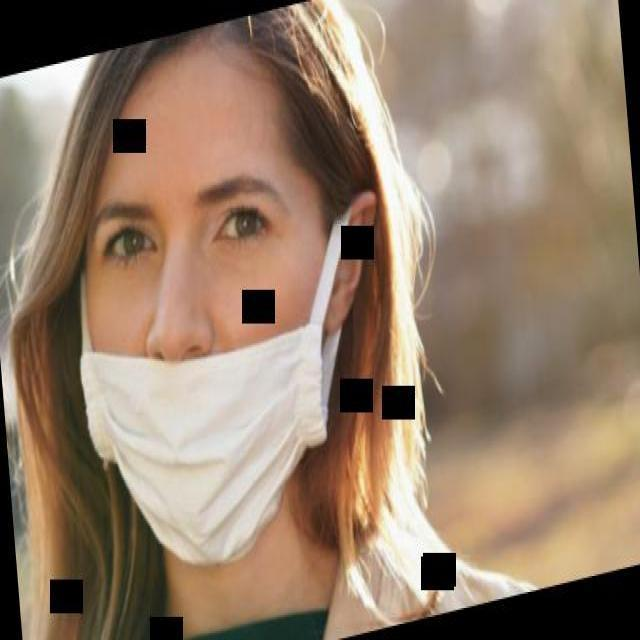hairnet: (76, 265, 349, 570)
